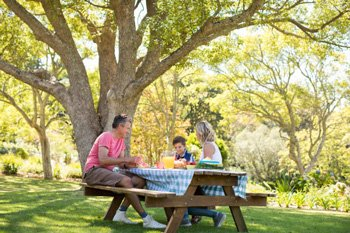Person: (86, 118, 152, 227), (192, 128, 248, 170)
